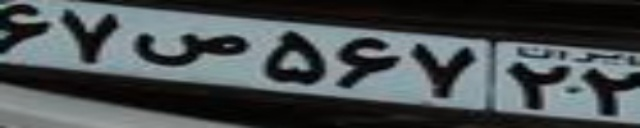2: (503, 60, 573, 110), (579, 66, 637, 116)
5: (261, 31, 324, 85)
6: (332, 36, 402, 88), (1, 2, 51, 56)
7: (407, 41, 480, 99), (60, 8, 120, 63)
saat: (131, 31, 249, 66)
